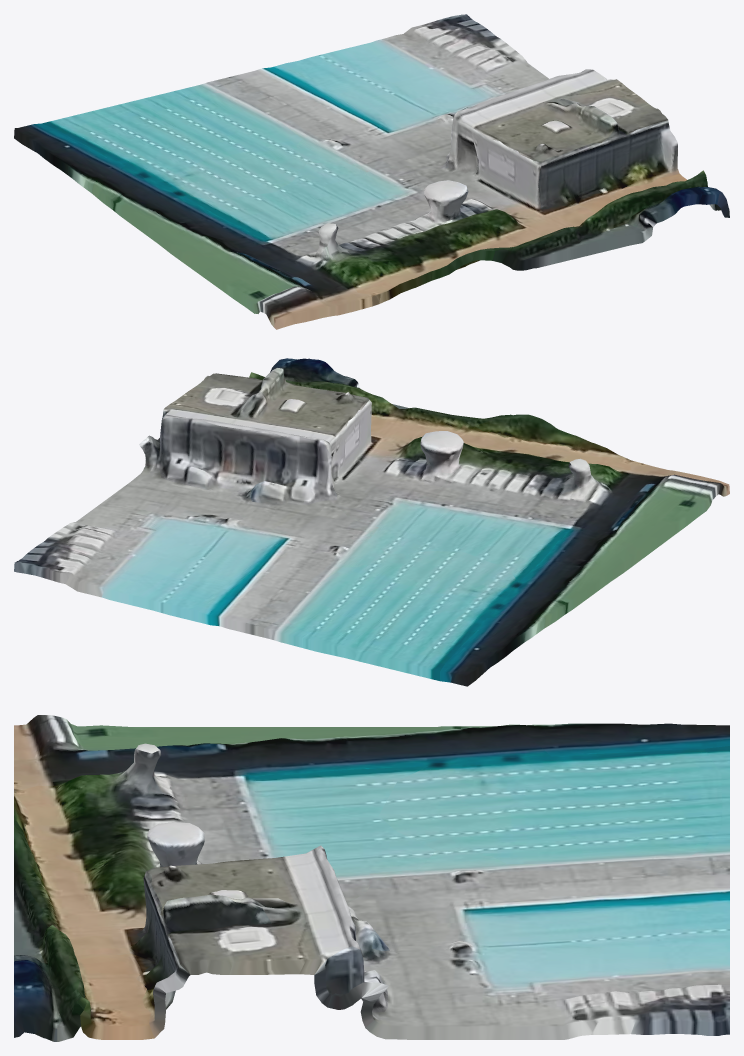
Rendered from z20-167781-405213-h0-yup-uvflip-v3-world.glb.
3 renders of one model, top to bottom at view 1: azimuth 30°, elevation 25°; view 2: azimuth 150°, elevation 25°; view 3: azimuth 270°, elevation 25°, orthographic. The views are drawn at different scales.
Bounding box in the file's own units: 30.24 × 4.92 × 30.32.
Materials: 1 (1 with a texture image).
